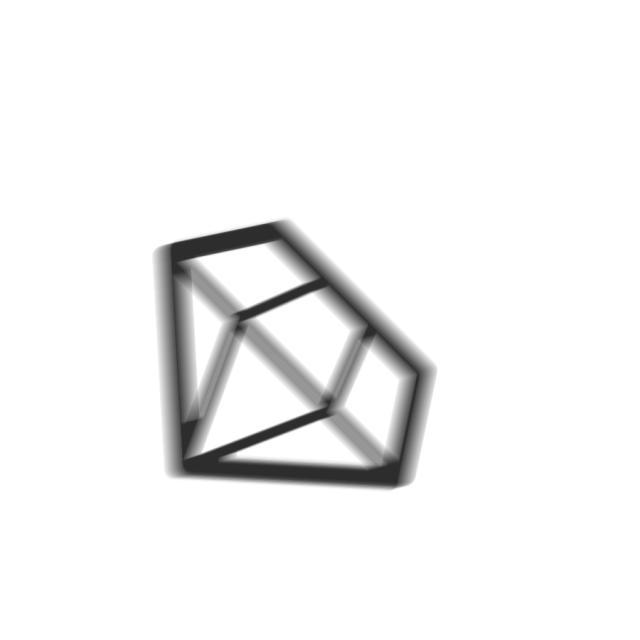diamond: (147, 214, 446, 496)
